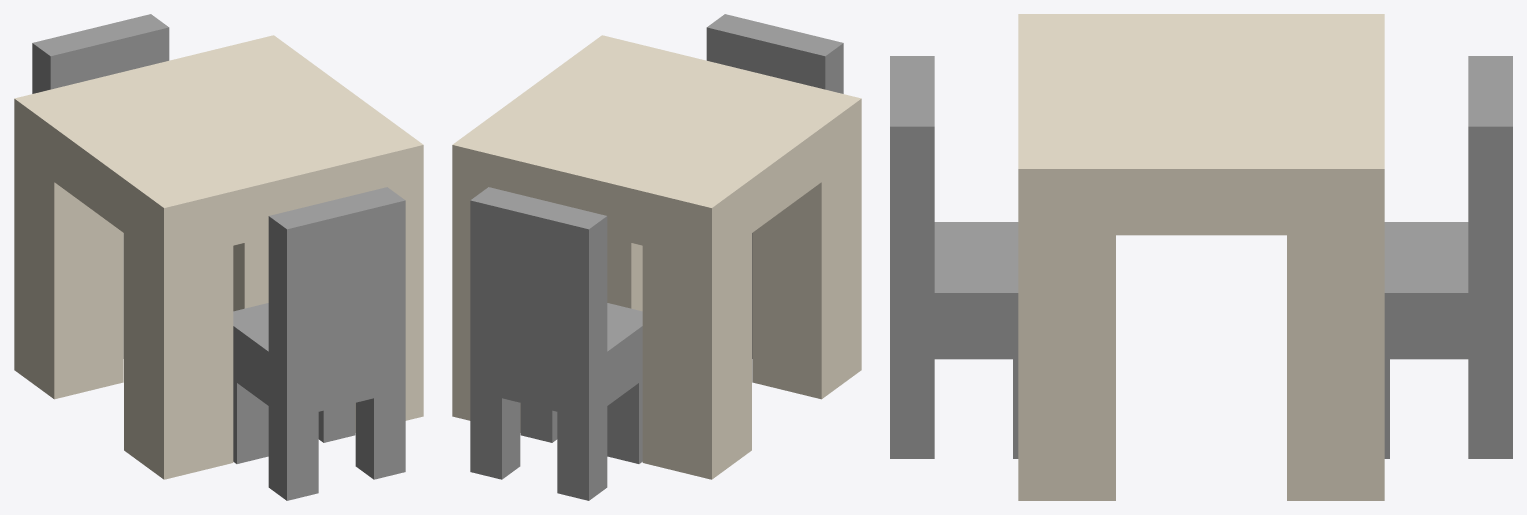
Rendered from Mesh_Table_Set.fbx.
3 renders of one model, left to right at view 1: azimuth 30°, elevation 25°; view 2: azimuth 150°, elevation 25°; view 3: azimuth 270°, elevation 25°, orthographic. The views are drawn at different scales.
Visible parts, largest first — view 1: ChairTABLESET; view 2: ChairTABLESET; view 3: ChairTABLESET.
Boxes of the visible parts, x1,y1,x2,y2 form: ChairTABLESET: [14, 14, 423, 500]; ChairTABLESET: [452, 14, 861, 500]; ChairTABLESET: [890, 14, 1512, 500].
Bounding box in the file's own units: 100 × 100 × 170.
